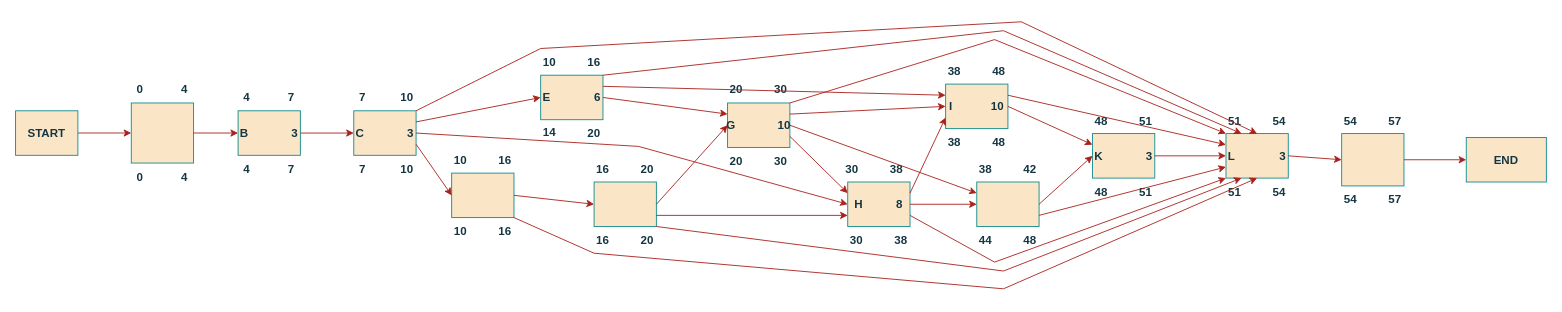
Image size: 1562x312. Some labels were removed from this diagram. Each missing label, with the box of its shape:
A 4: (130, 102, 194, 163)
D 6: (451, 172, 514, 218)
F 4: (593, 181, 656, 227)
J 4: (976, 181, 1039, 227)
M 3: (1341, 133, 1404, 186)
